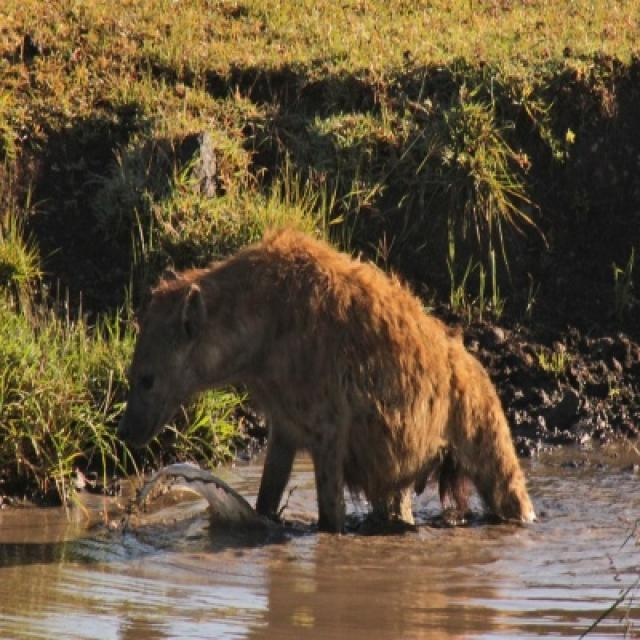hyena: (120, 229, 534, 530)
